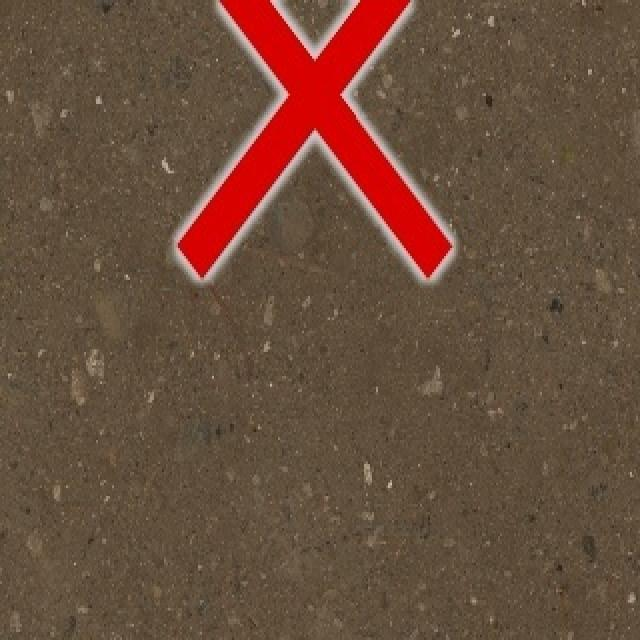x_marker: (177, 0, 451, 275)
